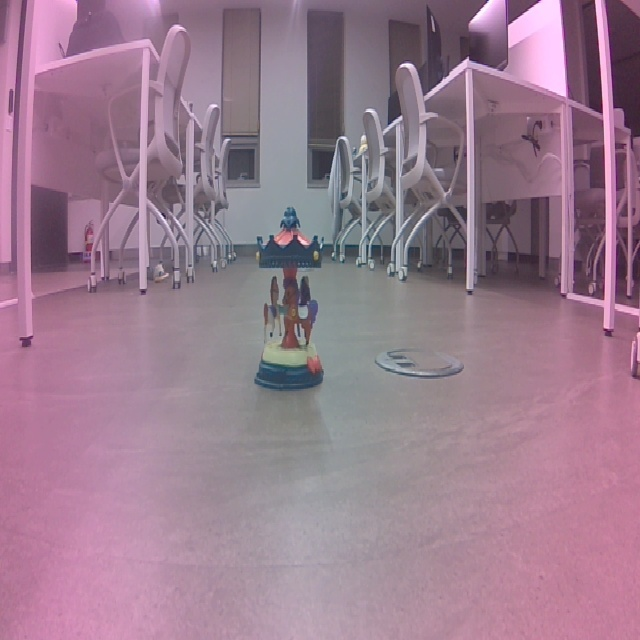목적지: (313, 178, 408, 371)
